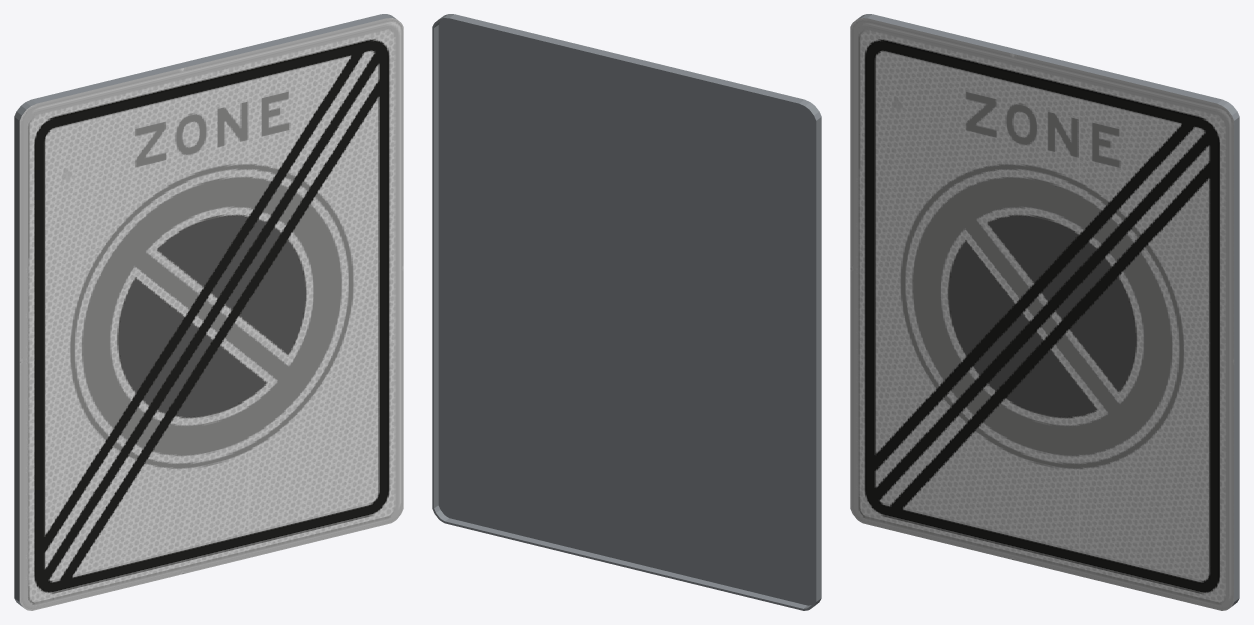
3 views of the same model, side by side, from view 1: azimuth 30°, elevation 25°; view 2: azimuth 150°, elevation 25°; view 3: azimuth 330°, elevation 25° (orthographic).
Parts seen in each view (by area): view 1: cat_902931042679f438; view 2: cat_902931042679f438; view 3: cat_902931042679f438.
Part boxes in pixels (bbox=[...]): cat_902931042679f438: bbox=[14, 14, 403, 610]; cat_902931042679f438: bbox=[432, 14, 821, 610]; cat_902931042679f438: bbox=[850, 14, 1239, 610].
Bounding box in the file's own units: 0.6 × 0.015 × 0.7558.
Materials: 2 (1 with a texture image).
